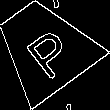P_NW: (13, 16, 75, 78)
